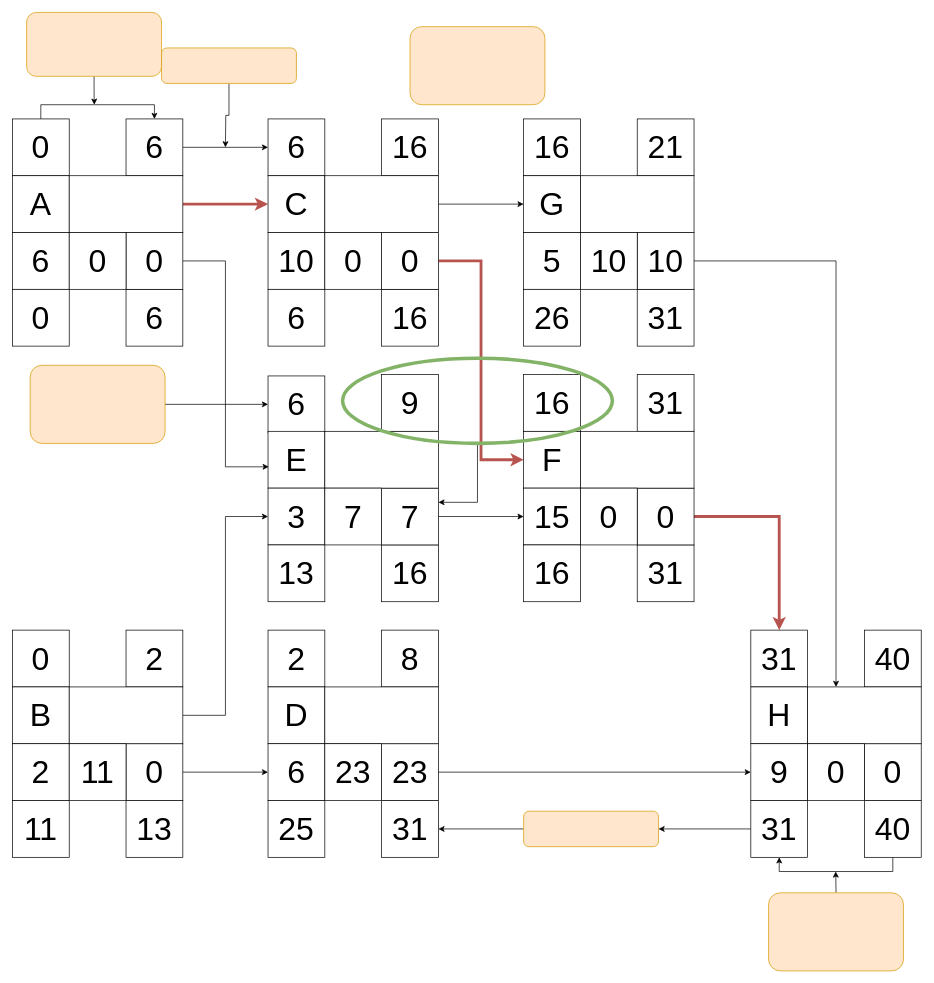
Image size: 934x983. Some labels were removed from this diagram. The box of each missing label's shape, as (x1, y1, x2, y2) in pixels:
FAZ + PD = FEZ 0 + 6 = 6: (26, 12, 162, 76)
freien Puffer = 7 Tage: (340, 356, 614, 445)
Rückwertsterminierung Bei 2 Vorgängern Niedrigeres SAZ: (409, 26, 545, 105)
Rückwerzterminierung: (523, 810, 659, 847)
SEZ - PD = SAZ 40 - 9 = 31: (768, 892, 903, 971)
Vorwärtsterminierung: (161, 47, 296, 83)
Vorwärtsterminierung Bei 2 Vorgängern Höheres FEZ: (29, 365, 165, 443)
